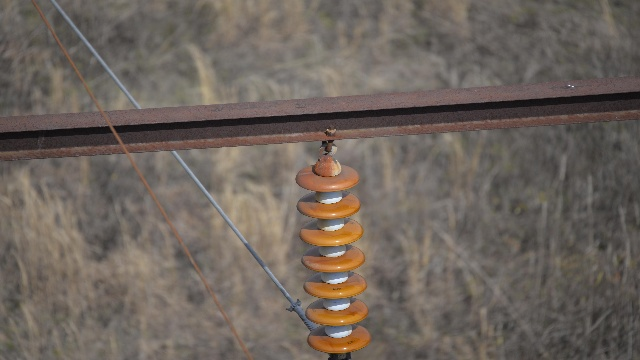insulator_unspecified: (296, 164, 372, 353)
